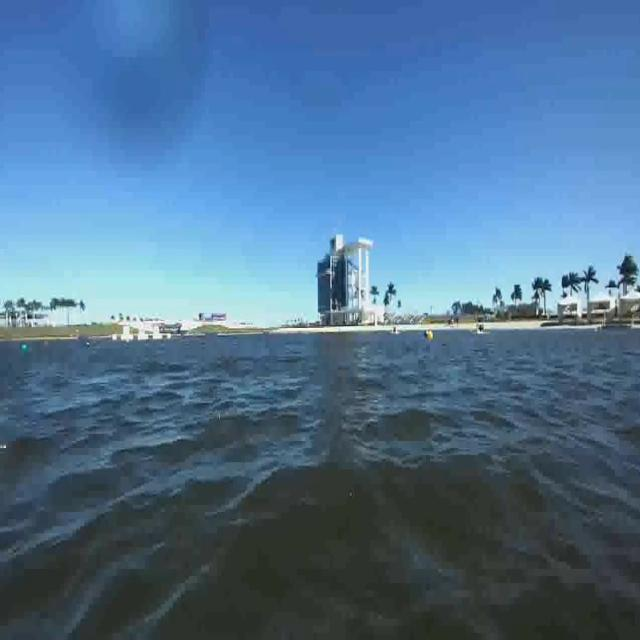green-buoy: (23, 344, 30, 352)
yellow-buoy: (426, 331, 434, 343)
